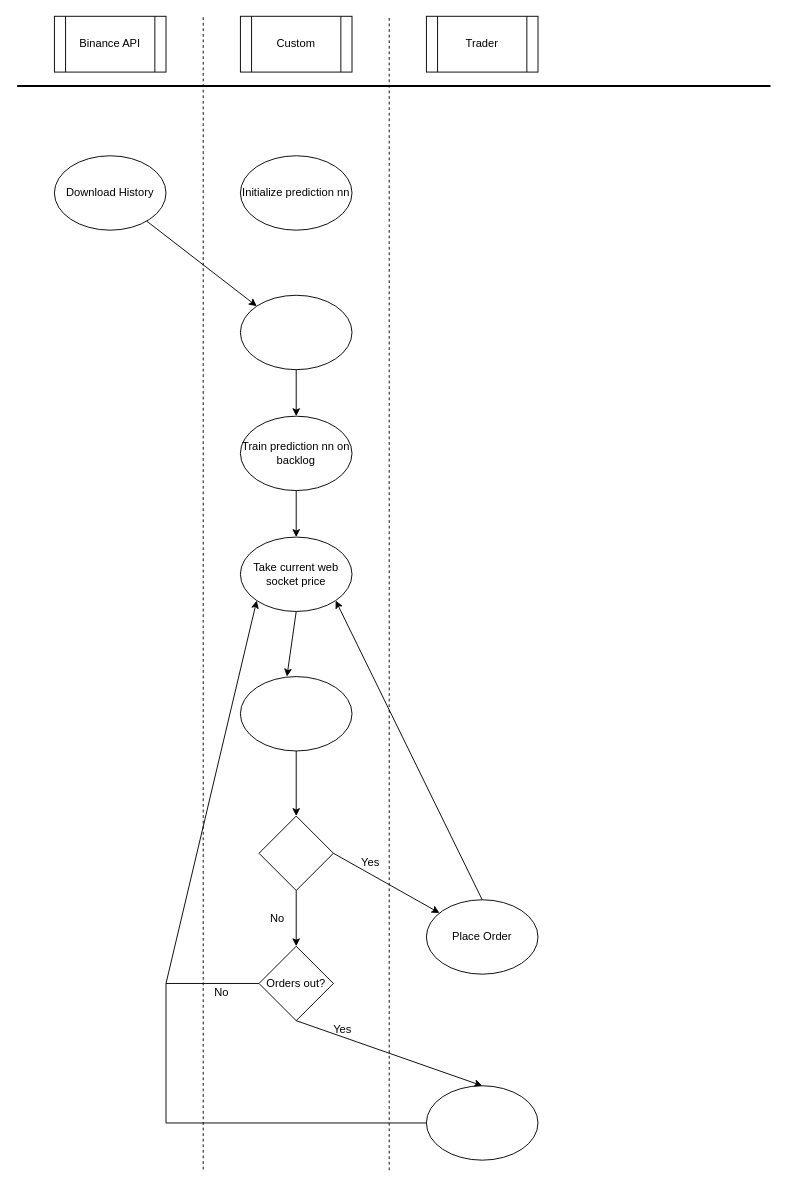
Some shapes in this 787 by 1188 pixel diagram are drawn without their labels. Each missing label, with the centre of its shape:
"Buy/Sell?" goes at point 295,852.
"Manage/Cancel Orders" goes at point 481,1122.
"Prediction network" goes at point 295,713.
"Reformat into pandas df and save file" goes at point 295,332.
